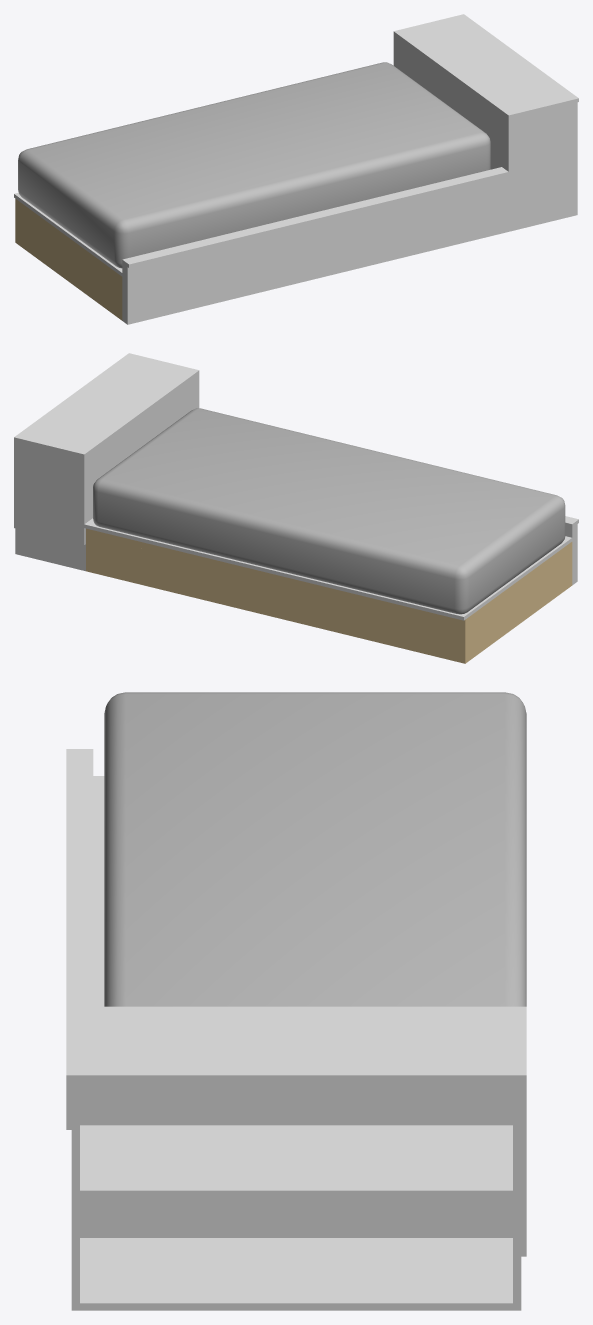
The model's file is twin.glb.
3 views of the same model, one above another, from view 1: azimuth 30°, elevation 25°; view 2: azimuth 150°, elevation 25°; view 3: azimuth 270°, elevation 25° (orthographic). The views are drawn at different scales.
Parts seen in each view (by area): view 1: Cube.002, bed-rail-molding.001, cabinet-top.002, cabinet-side.006, bed-rail-head.002, cabinet-back.002, bed-rail-molding.005, bed-platform.002, bed-rail-riser.002; view 2: Cube.002, bed-rail-side.004, cabinet-top.002, cabinet-side.008, bed-rail-head.002, cabinet-back.002, bed-platform.002, cabinet-side.007; view 3: Cube.002, cabinet-back.002, cabinet-top.002, cabinet-bottom.002, cabinet-shelf.002, bed-rail-molding.005, bed-platform.002, cabinet-side.006, cabinet-side.007, cabinet-side.008.
Boxes of the visible parts, x1,y1,x2,y2 form: Cube.002: (18,62,490,268); bed-rail-molding.001: (126,177,506,324); cabinet-top.002: (395,15,576,114); cabinet-side.006: (507,102,577,231); bed-rail-head.002: (15,199,122,320); cabinet-back.002: (395,32,507,170); bed-rail-molding.005: (122,167,511,267); bed-platform.002: (14,192,122,276); bed-rail-riser.002: (122,176,507,269); Cube.002: (93,408,565,614); bed-rail-side.004: (86,534,458,661); cabinet-top.002: (16,354,197,453); cabinet-side.008: (14,436,85,544); bed-rail-head.002: (458,542,572,663); cabinet-back.002: (85,371,197,522); bed-platform.002: (84,518,572,620); cabinet-side.007: (15,528,82,570); Cube.002: (104,692,526,1006); cabinet-back.002: (80,1082,512,1237); cabinet-top.002: (71,1006,521,1082); cabinet-bottom.002: (72,1238,520,1310); cabinet-shelf.002: (80,1125,512,1195); bed-rail-molding.005: (66,749,93,1129); bed-platform.002: (93,776,104,1006); cabinet-side.006: (71,1075,79,1310); cabinet-side.007: (513,1075,521,1310); cabinet-side.008: (521,1006,526,1256).
Bounding box in the file's own units: 2.44 × 0.6096 × 1.08.
